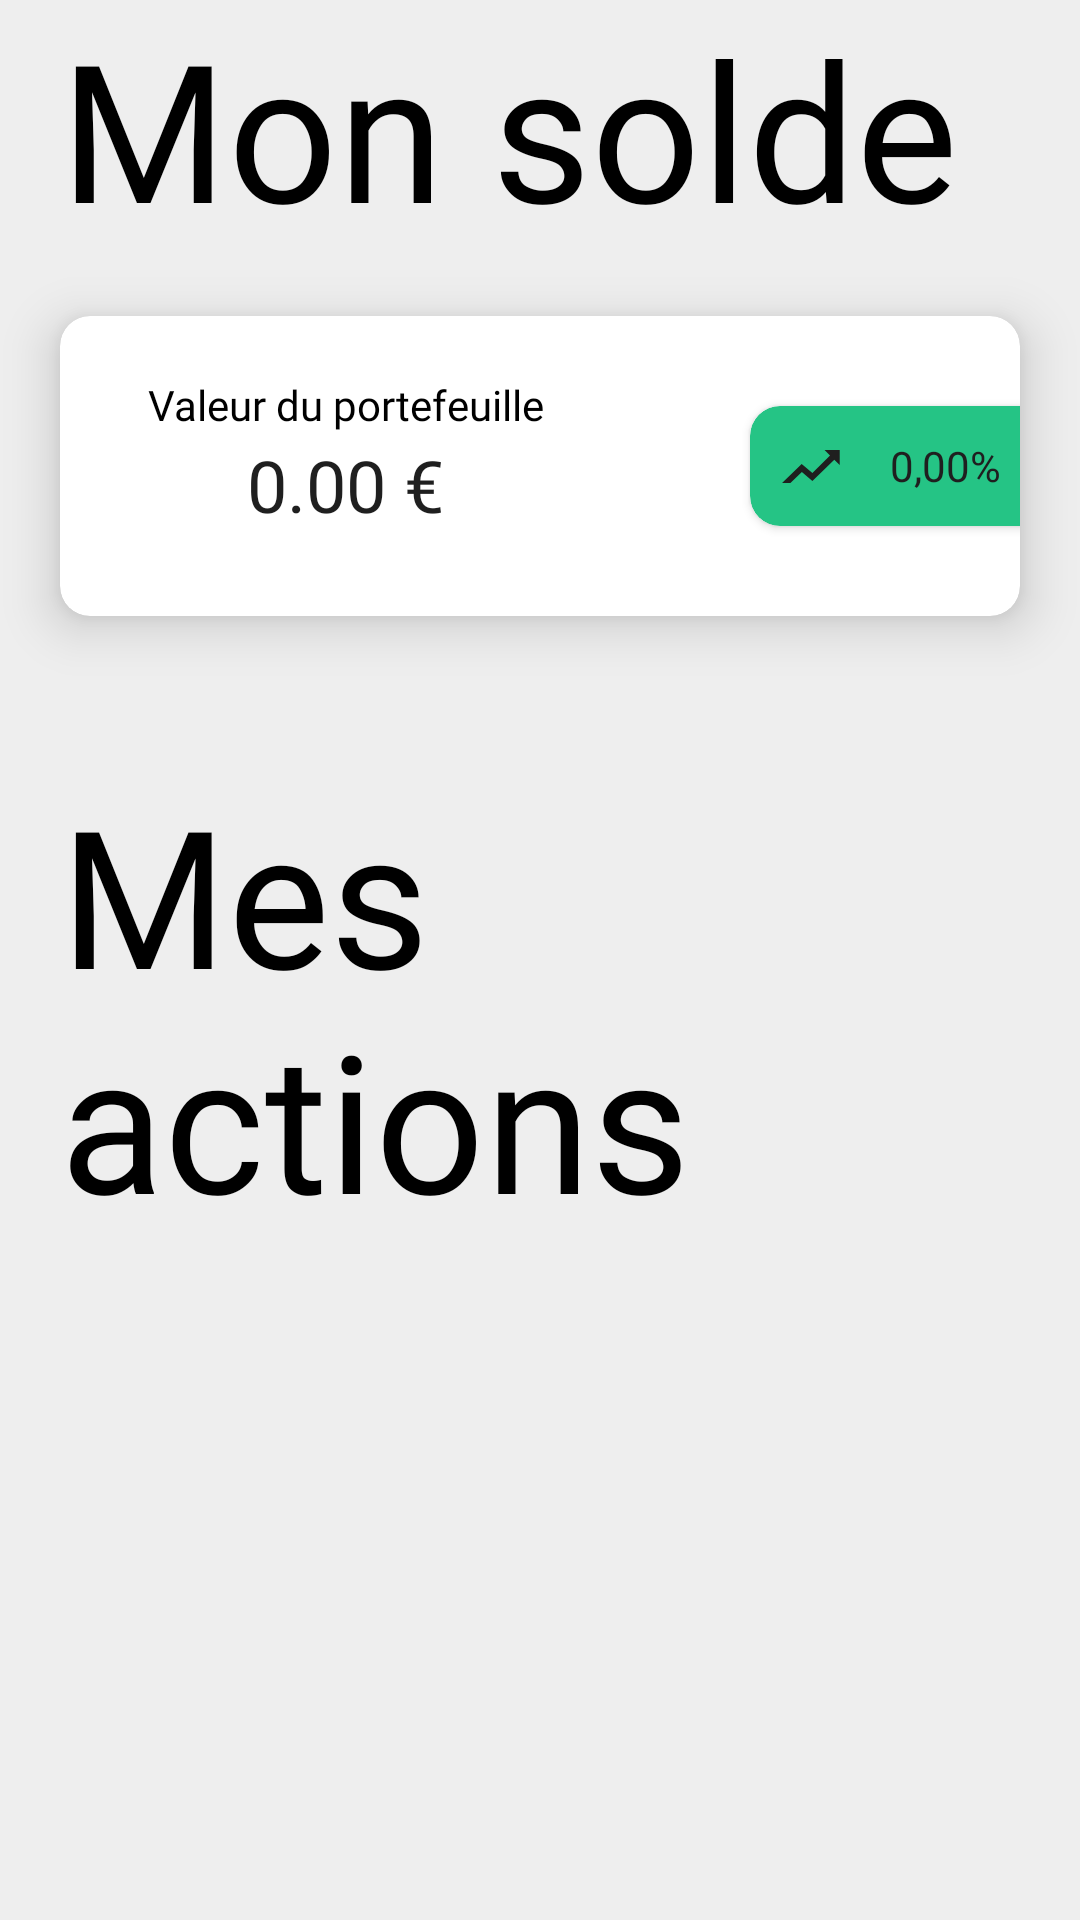

Point at icon controls on the screen. Image size 1080x1920, points as [x,y].
evolv up arrow: [811,466]
